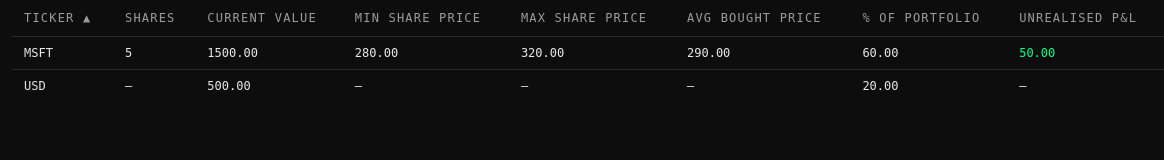
Test: PortfolioHoldingsTable › PortfolioHoldingsTable - right-click stock row - shows role="menu" with role="menuitem" Sell
Right-click the row "MSFT 5 1500.00 280.00 320.00 290.00 60.00 50.00" at (588, 52), box [12,36,1163,69]
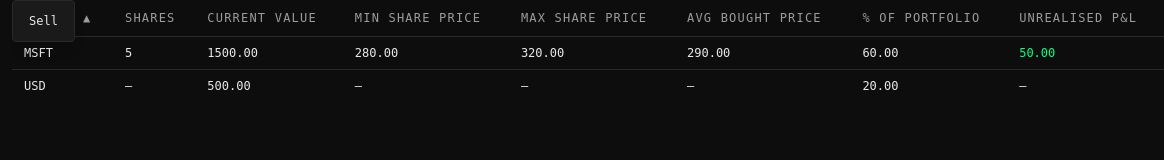
Expected: the menu is shown, [12,0,75,42]
Expected: the menu item "Sell" is shown, [13,5,74,37]
